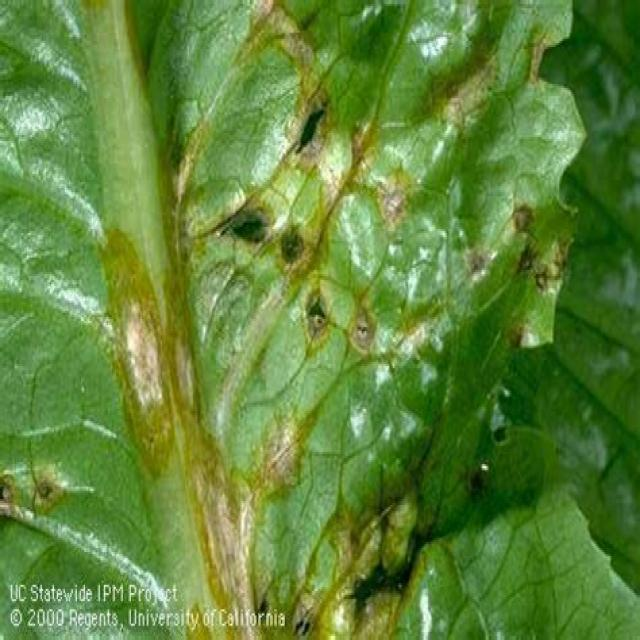Baby: (202, 45, 428, 401)
